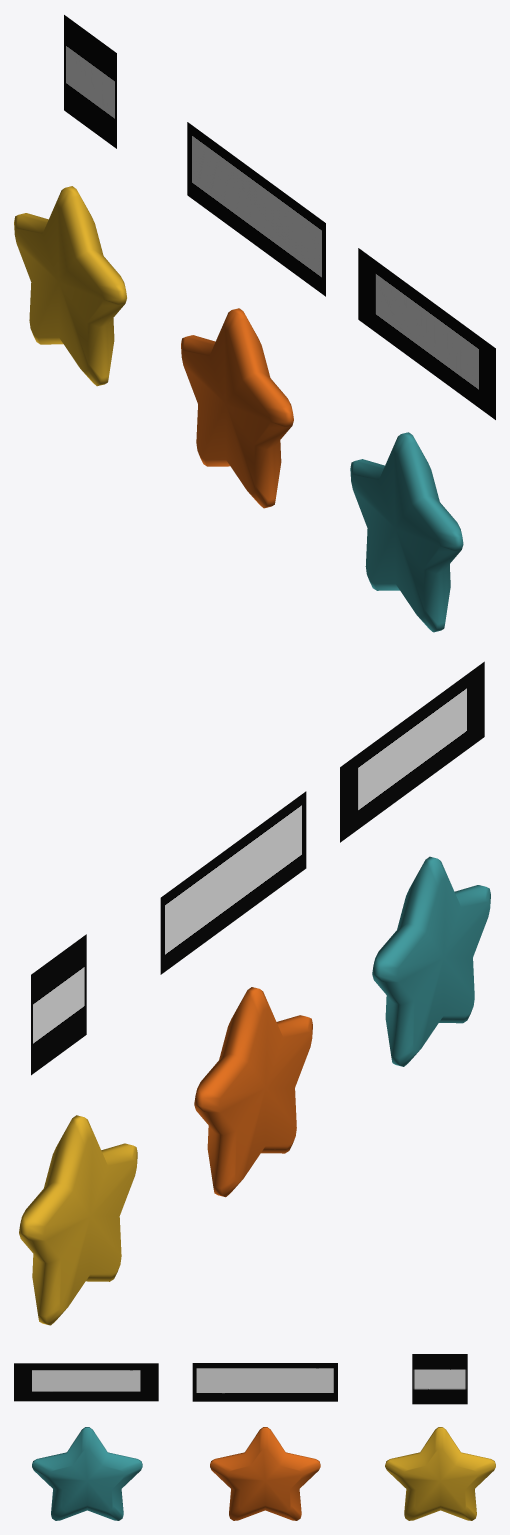
File: star_set.gltf
3 views of the same model, one above another, from view 1: azimuth 30°, elevation 25°; view 2: azimuth 150°, elevation 25°; view 3: azimuth 270°, elevation 25° (orthographic). The views are drawn at different scales.
Parts seen in each view (by area): view 1: Star, Star3, Star2, rapper, cool, all; view 2: Star2, Star, Star3, rapper, cool, all; view 3: Star2, Star3, Star, rapper, cool, all.
Boxes of the visible parts, x1,y1,x2,y2 form: Star: (14, 186, 126, 386); Star3: (350, 432, 463, 632); Star2: (181, 308, 293, 508); rapper: (187, 122, 325, 296); cool: (358, 248, 495, 419); all: (64, 15, 116, 148); Star2: (194, 987, 312, 1197); Star: (19, 1115, 137, 1325); Star3: (372, 856, 490, 1066); rapper: (160, 791, 306, 974); cool: (340, 661, 484, 842); all: (31, 934, 86, 1075); Star2: (210, 1427, 320, 1520); Star3: (32, 1427, 142, 1520); Star: (385, 1427, 495, 1520); rapper: (192, 1363, 337, 1401); cool: (14, 1363, 158, 1401); all: (412, 1354, 467, 1404).
Bounding box in the file's own units: 0.1189 × 1.2 × 3.07.
Materials: 4 (4 with a texture image).
